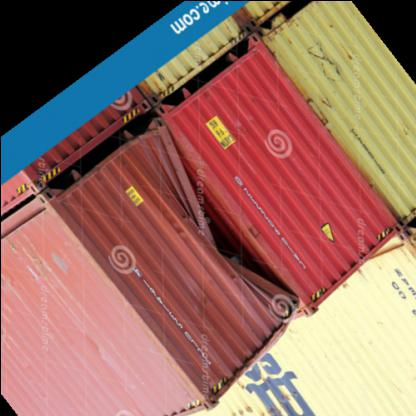Damage: (177, 165, 261, 294)
